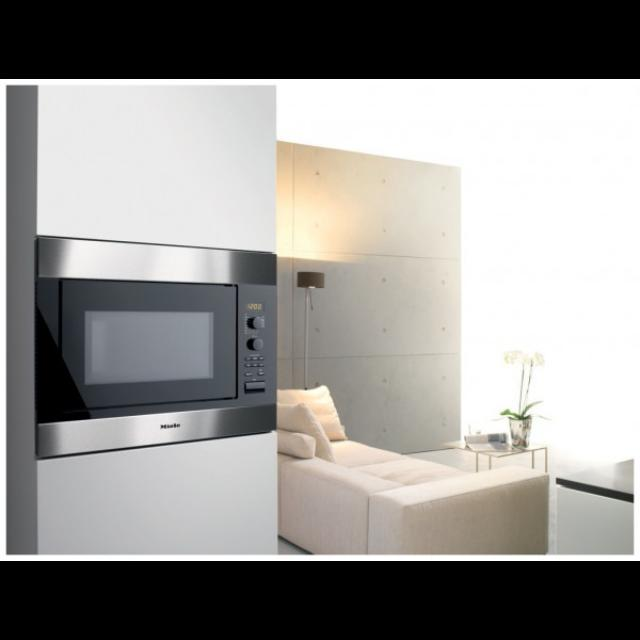Microwave: (26, 233, 282, 459)
